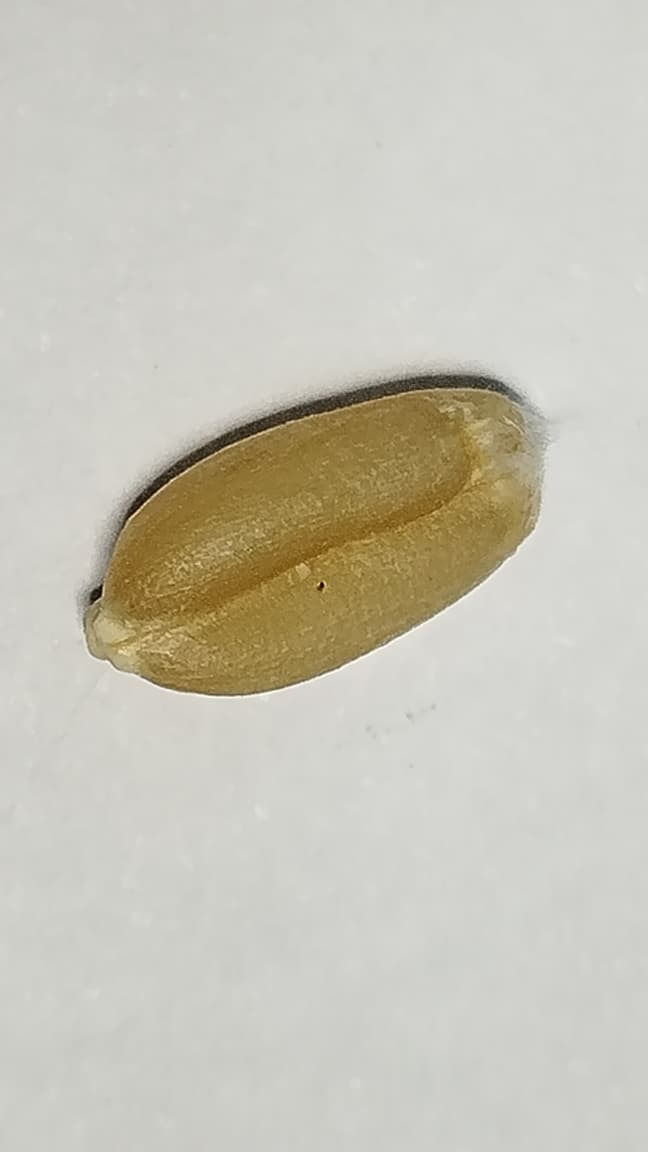healthy: (83, 383, 548, 693)
